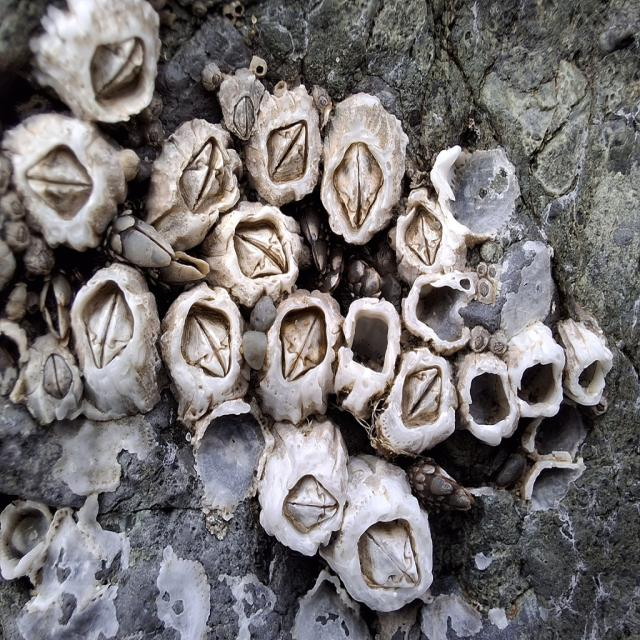barnacles: (335, 454, 436, 623), (45, 0, 163, 132), (16, 110, 126, 249), (65, 259, 161, 405), (321, 88, 402, 250), (258, 428, 345, 562), (176, 286, 260, 415), (148, 121, 238, 241), (217, 204, 302, 300), (256, 95, 327, 203), (270, 302, 335, 416), (394, 350, 453, 468), (457, 348, 518, 455), (391, 194, 462, 278), (509, 311, 562, 423), (24, 338, 82, 435), (564, 332, 609, 416), (222, 68, 264, 141)
